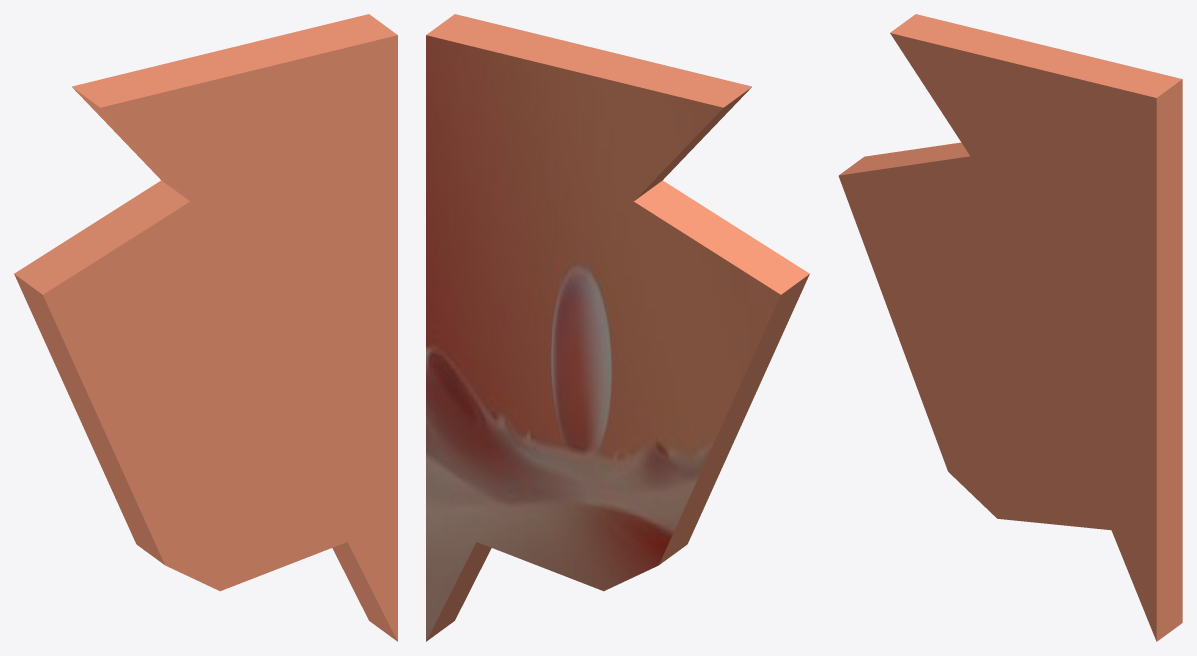
The model's file is monde1.glb.
The picture shows the model from 3 angles, left to right: view 1: azimuth 30°, elevation 25°; view 2: azimuth 150°, elevation 25°; view 3: azimuth 330°, elevation 25°; orthographic projection. The views are drawn at different scales.
Parts seen in each view (by area): view 1: Plane.001; view 2: Plane.001; view 3: Plane.001.
Boxes of the visible parts, x1,y1,x2,y2 form: Plane.001: (14,14,397,641); Plane.001: (426,14,809,641); Plane.001: (838,14,1182,641).
Size of the model in its own units: 34.9 by 56.99 by 4.92.
2 materials, 1 textured.
